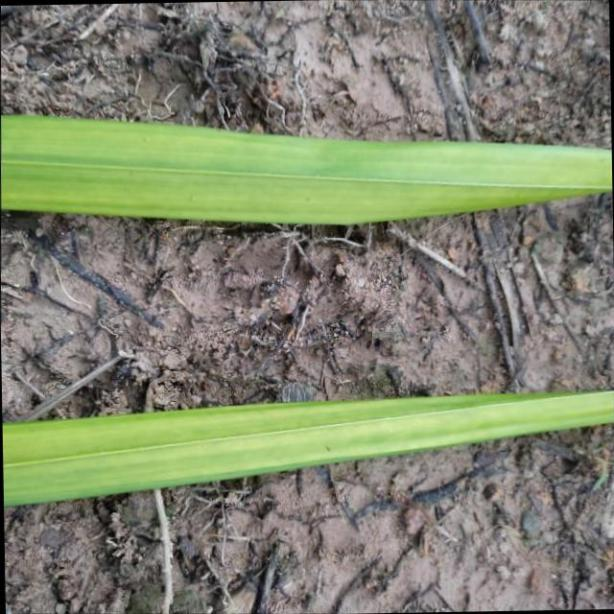nitrogen: (5, 389, 614, 510), (1, 113, 614, 228)
